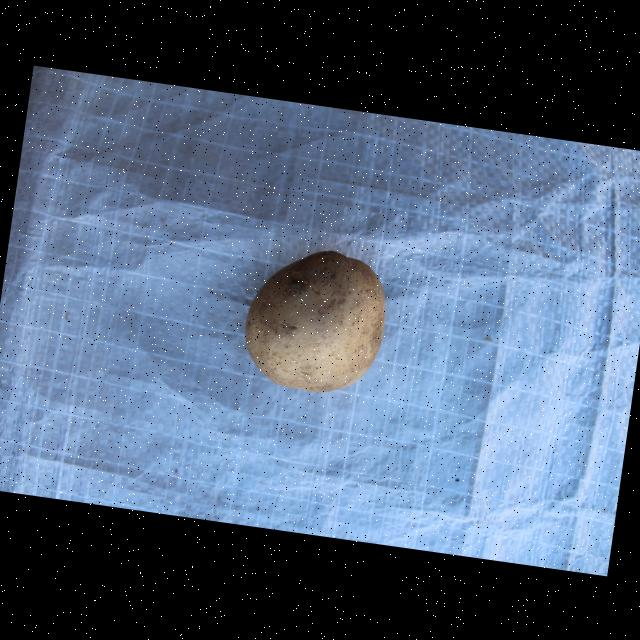Diseased-fungal potato: (233, 238, 392, 407)
